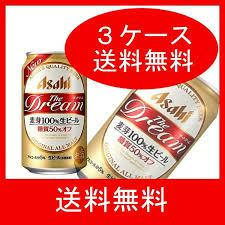beer: (19, 49, 88, 174)
